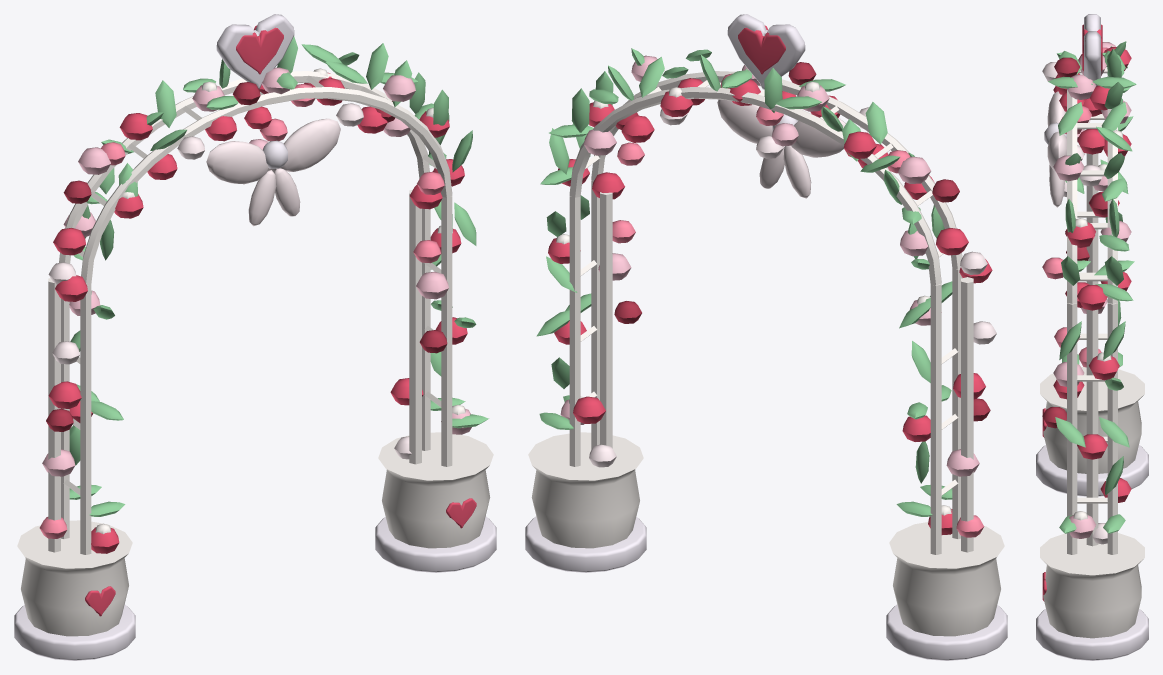
Rendered from rose_arch.glb.
The picture shows the model from 3 angles, left to right: view 1: azimuth 30°, elevation 25°; view 2: azimuth 150°, elevation 25°; view 3: azimuth 270°, elevation 25°; orthographic projection. The views are drawn at different scales.
Visible parts, largest first — view 1: rose_arch; view 2: rose_arch; view 3: rose_arch.
Part boxes in pixels (x1,y1,x2,y2): rose_arch: (14,14,496,660); rose_arch: (525,14,1007,660); rose_arch: (1036,14,1148,660).
Size of the model in its own units: 2.98 by 3.48 by 0.6697.
